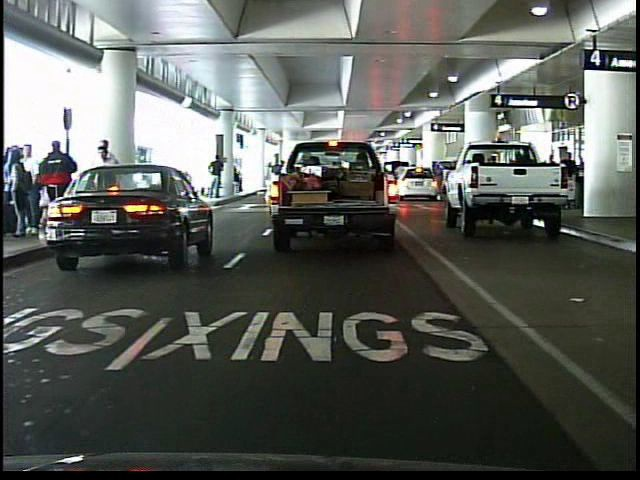person: (32, 135, 81, 242)
